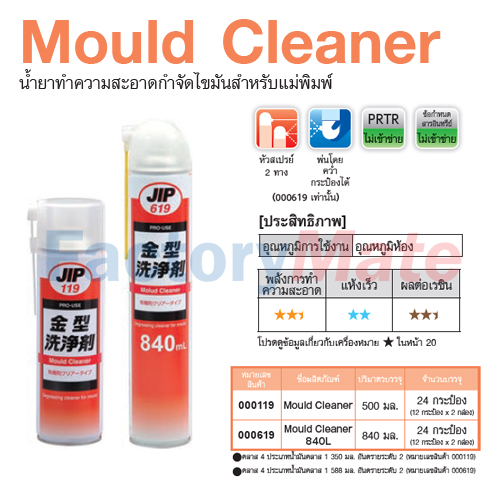Cleaning_solution: (119, 112, 198, 451), (24, 193, 107, 448)
